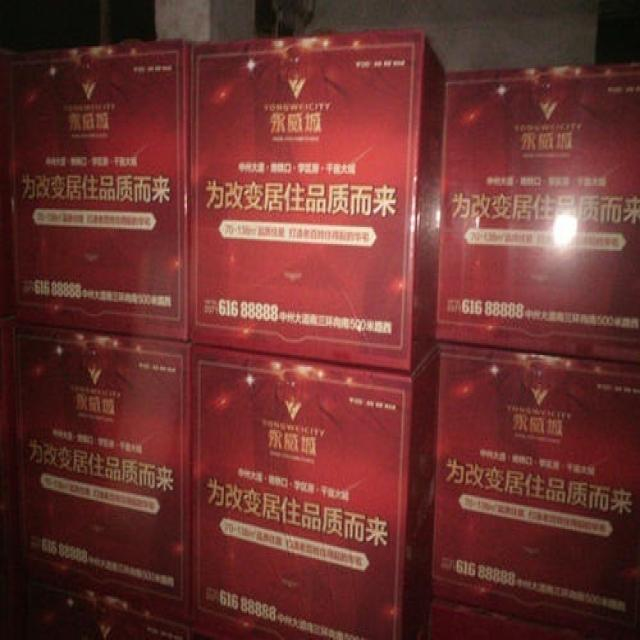box: (188, 28, 449, 370), (188, 336, 438, 638), (432, 342, 639, 638), (437, 61, 639, 364), (0, 320, 192, 618), (2, 41, 190, 338), (0, 563, 189, 638), (415, 588, 639, 638), (188, 617, 252, 638)
